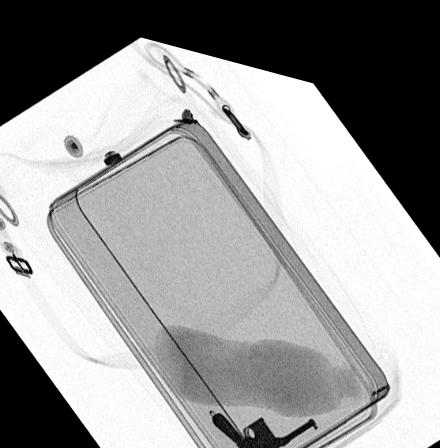Gun: (209, 397, 321, 448)
